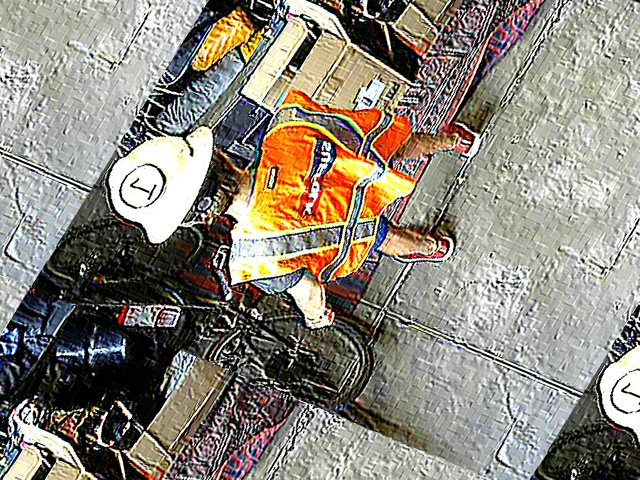one: (110, 158, 170, 213)
